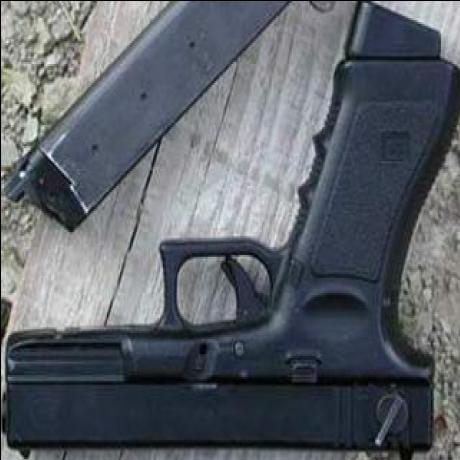weapon: (2, 10, 460, 456)
